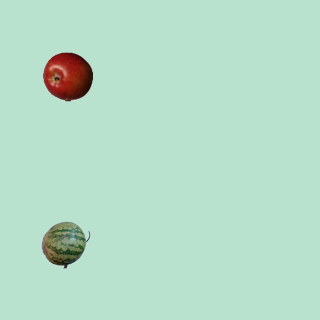Apple Braeburn: (42, 51, 92, 101)
Watermelon: (40, 219, 90, 269)
